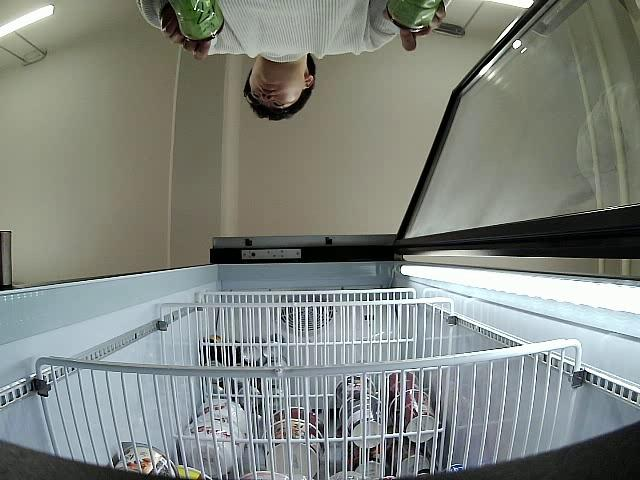00_hand: (159, 6, 223, 59), (382, 0, 446, 52)
19_17cha: (166, 0, 224, 41), (389, 0, 439, 32)
